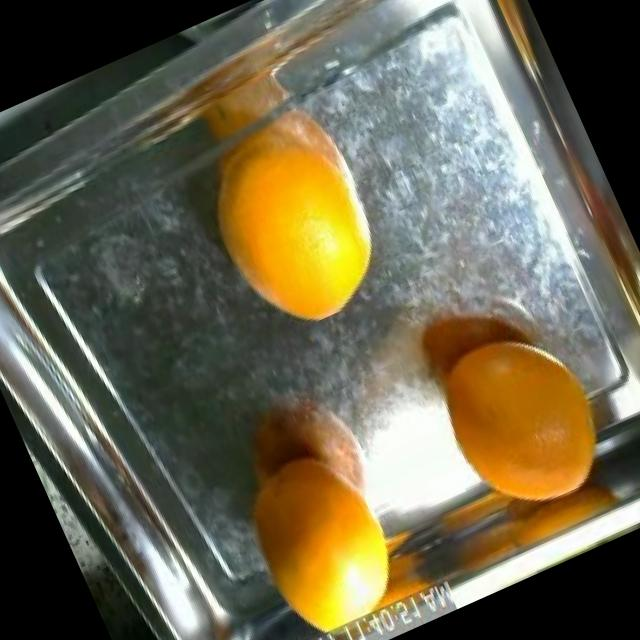Fruit: (178, 108, 420, 365), (403, 298, 636, 550)
